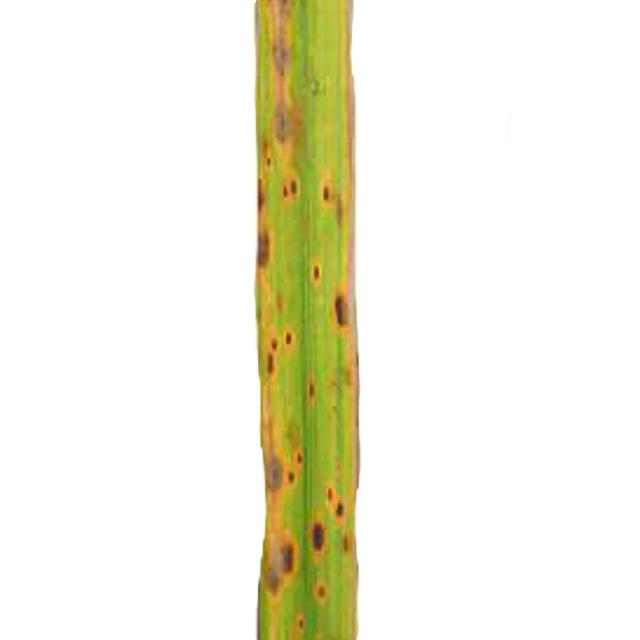Brown spot: (249, 1, 367, 640)
